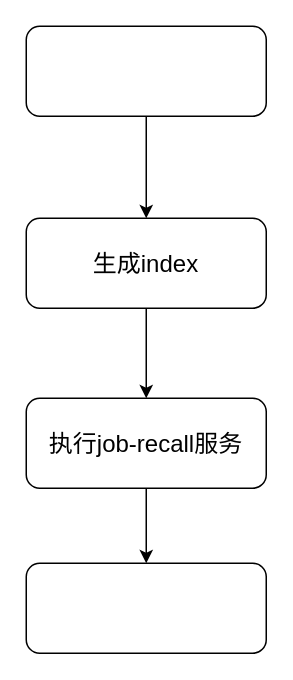
Image size: 293x680. Some labels were removed from this diagram. The shapes that lost their labels are listed below. From the top down, each one's centre as x and y in pixels, then its label:
the point at 145,70: 生成job2vec
the point at 145,607: preon环境
